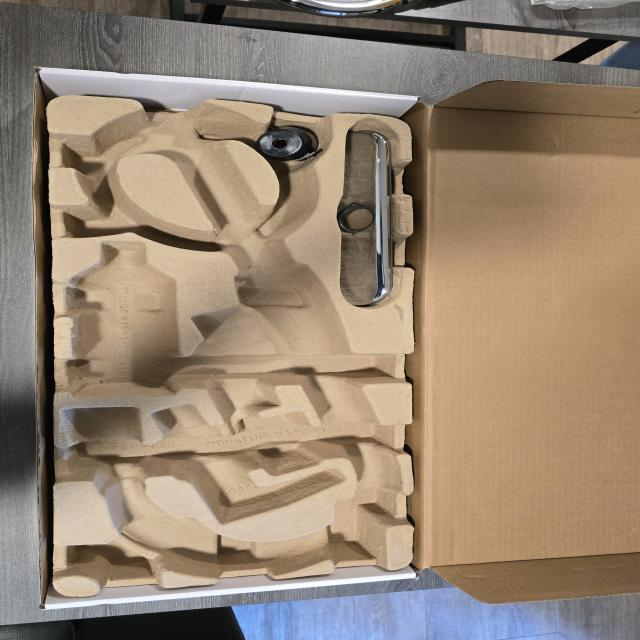1m: (70, 101, 397, 576)
2m: (153, 405, 343, 521)
3m: (73, 242, 175, 394)
4: (337, 131, 392, 307)
5: (256, 126, 320, 161)
6m: (62, 126, 144, 171)
7m: (65, 198, 148, 237)
